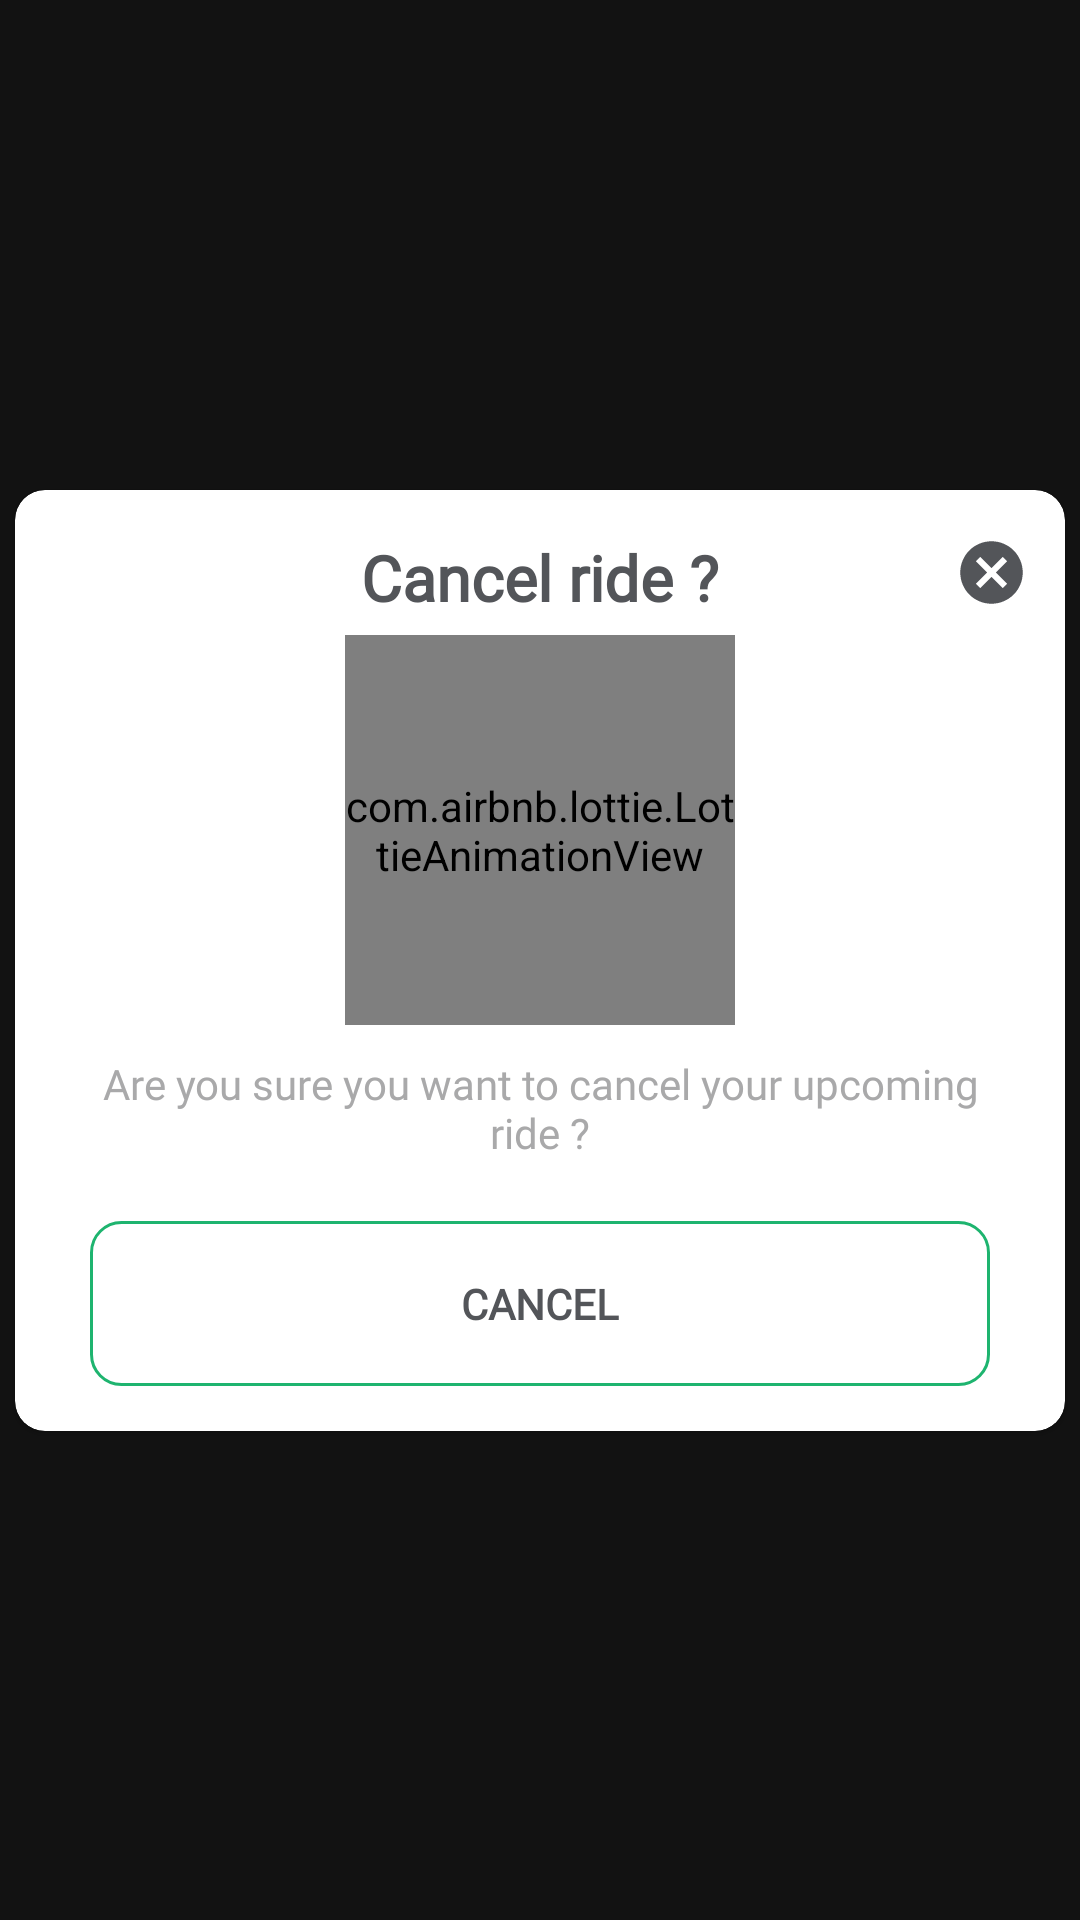

Where icons sit on this 1080 x 1920 app screen, as bbox(x1, y1, x2, y2):
cancel: bbox(960, 541, 1023, 604)
